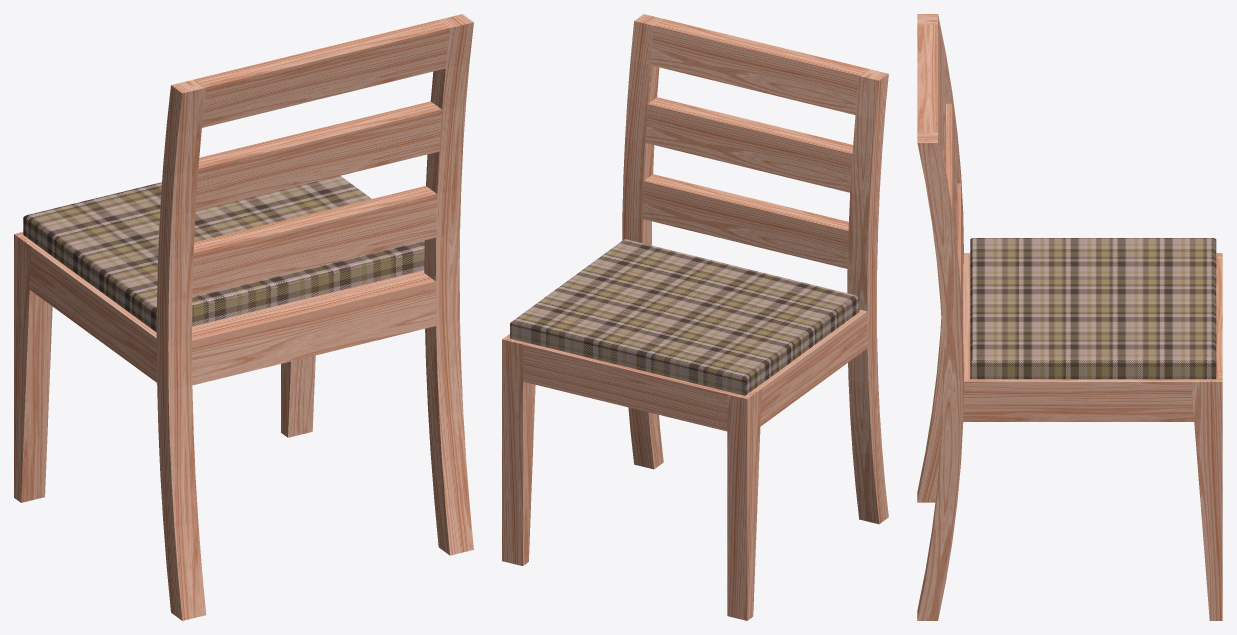
The model's file is zidle.fbx.
3 renders of one model, left to right at view 1: azimuth 30°, elevation 25°; view 2: azimuth 150°, elevation 25°; view 3: azimuth 270°, elevation 25°, orthographic. The views are drawn at different scales.
Visible parts, largest first — view 1: ZidleA1; view 2: ZidleA1; view 3: ZidleA1.
Part boxes in pixels (box(x1,y1,x2,y2)): ZidleA1: box(14, 14, 473, 620); ZidleA1: box(502, 14, 888, 620); ZidleA1: box(917, 14, 1222, 620).
Size of the model in its own units: 80.96 by 140 by 80.96.
